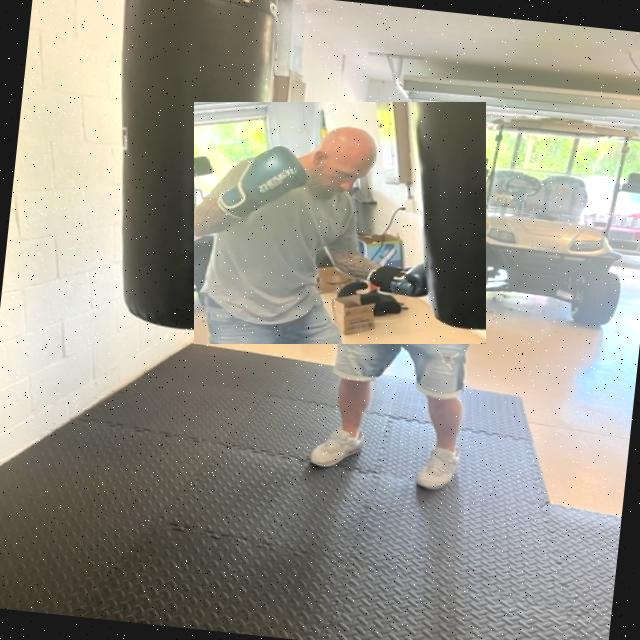punch: (194, 102, 486, 344)
